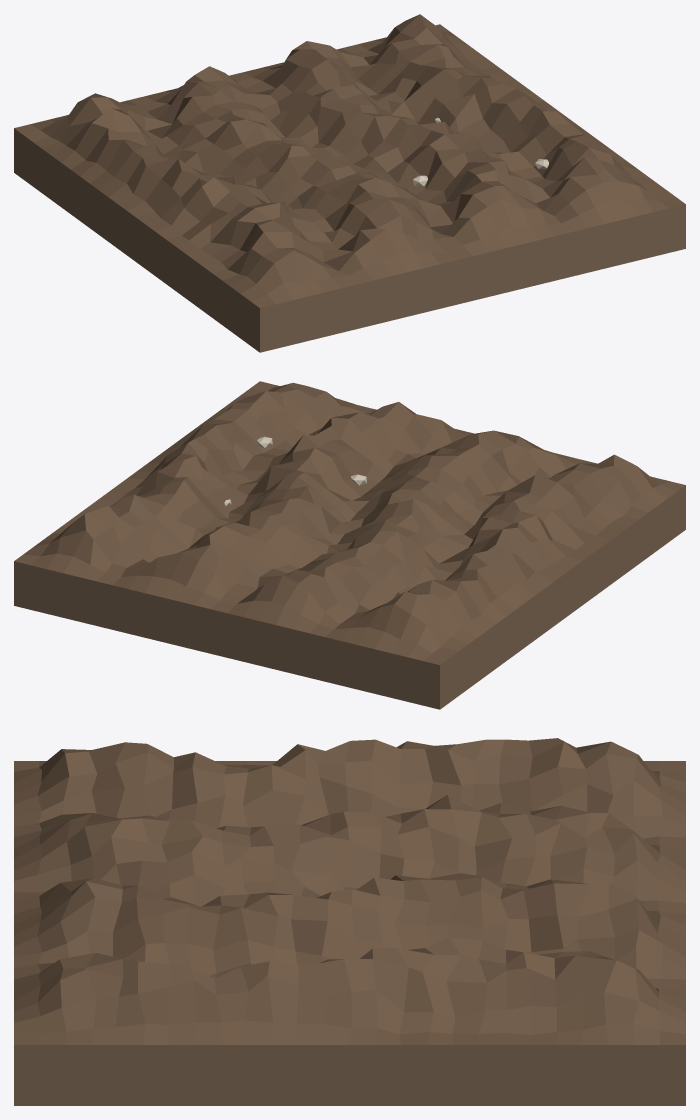
The model's file is WateredTilledSoil.fbx.
The picture shows the model from 3 angles, top to bottom: view 1: azimuth 30°, elevation 25°; view 2: azimuth 150°, elevation 25°; view 3: azimuth 270°, elevation 25°; orthographic projection. The views are drawn at different scales.
Parts seen in each view (by area): view 1: Tile_Watered; view 2: Tile_Watered; view 3: Tile_Watered.
Boxes of the visible parts, x1=… form: Tile_Watered: x1=14, y1=14, x2=685, y2=352; Tile_Watered: x1=14, y1=381, x2=685, y2=709; Tile_Watered: x1=14, y1=738, x2=685, y2=1105.
Bounding box in the file's own units: 1 × 0.1906 × 1.
